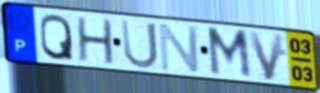H: (74, 15, 116, 66)
M: (204, 26, 254, 81)
N: (157, 22, 202, 73)
Q: (38, 12, 76, 62)
U: (119, 18, 161, 71)
V: (246, 30, 287, 83)
